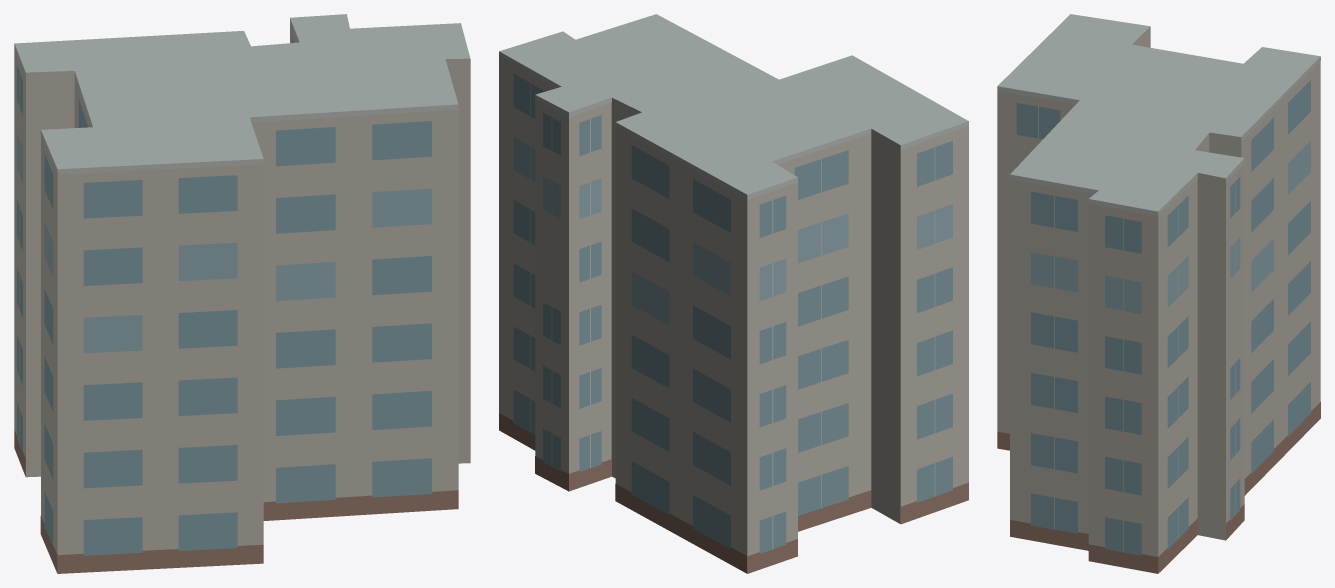
Rendered from survey-upis-32870591.glb.
3 views of the same model, side by side, from view 1: azimuth 30°, elevation 25°; view 2: azimuth 150°, elevation 25°; view 3: azimuth 270°, elevation 25° (orthographic). The views are drawn at different scales.
Visible parts, largest first — view 1: survey-upis-32870591.tmp; view 2: survey-upis-32870591.tmp; view 3: survey-upis-32870591.tmp.
Part boxes in pixels (box(x1,y1,x2,y2)): survey-upis-32870591.tmp: box(14, 14, 470, 573); survey-upis-32870591.tmp: box(499, 14, 968, 573); survey-upis-32870591.tmp: box(997, 14, 1320, 573).
Size of the model in its own units: 22.3 by 19.05 by 15.43.
